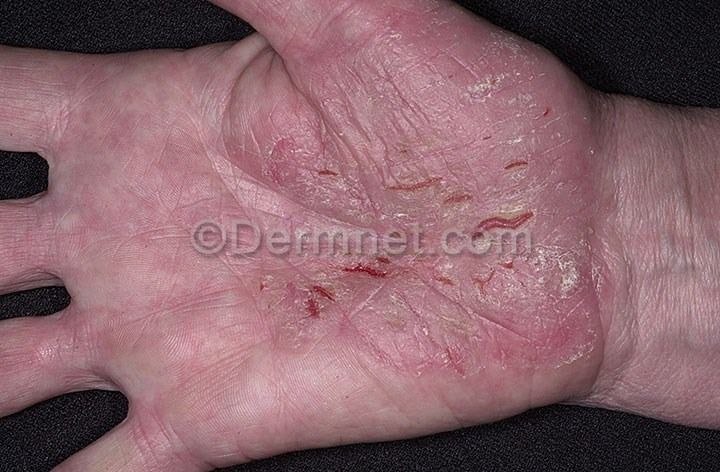Psoriasis: (267, 31, 620, 364)
